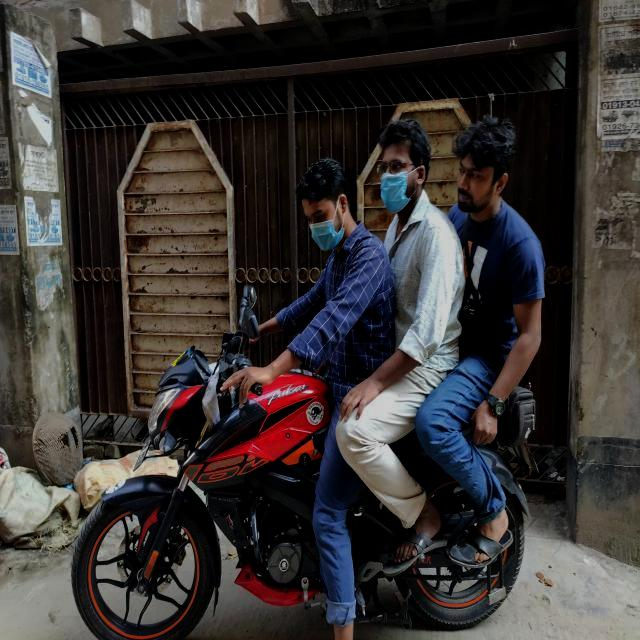motorcycle: (72, 335, 540, 640)
person: (290, 143, 420, 512), (446, 105, 566, 494), (368, 118, 472, 491)
rider_region: (62, 112, 549, 640)
